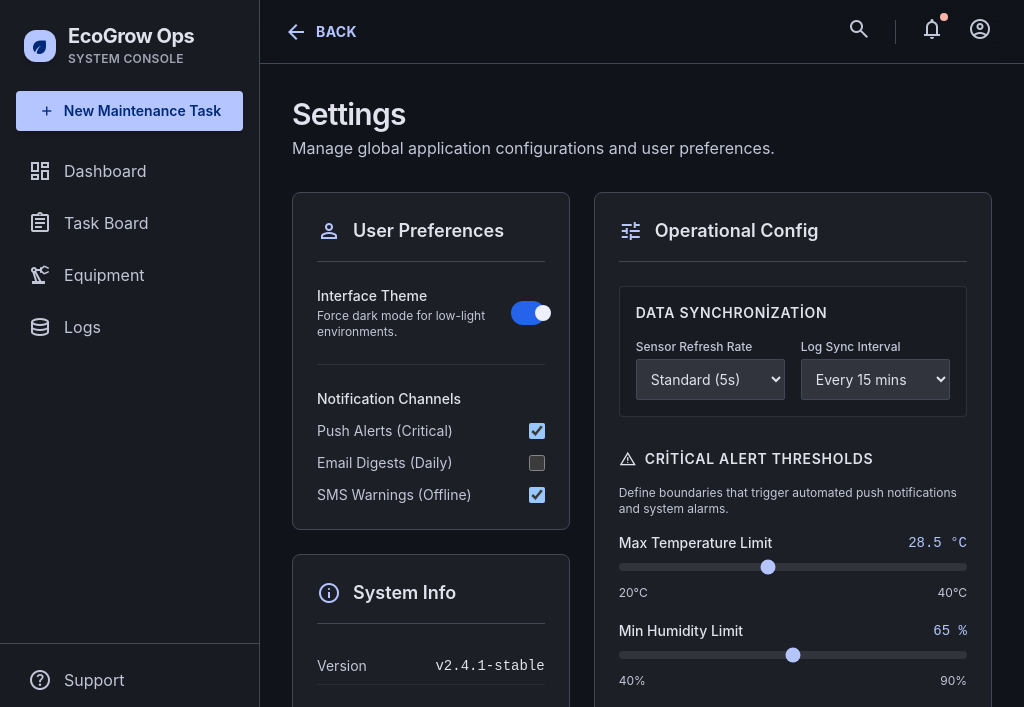
Test: Settings › updates humidity range slider
The width and height of the screenshot is (1024, 707).
Set the slider labelled "Min Humidity Limit" to "70": (826, 655) [619,651,967,659]
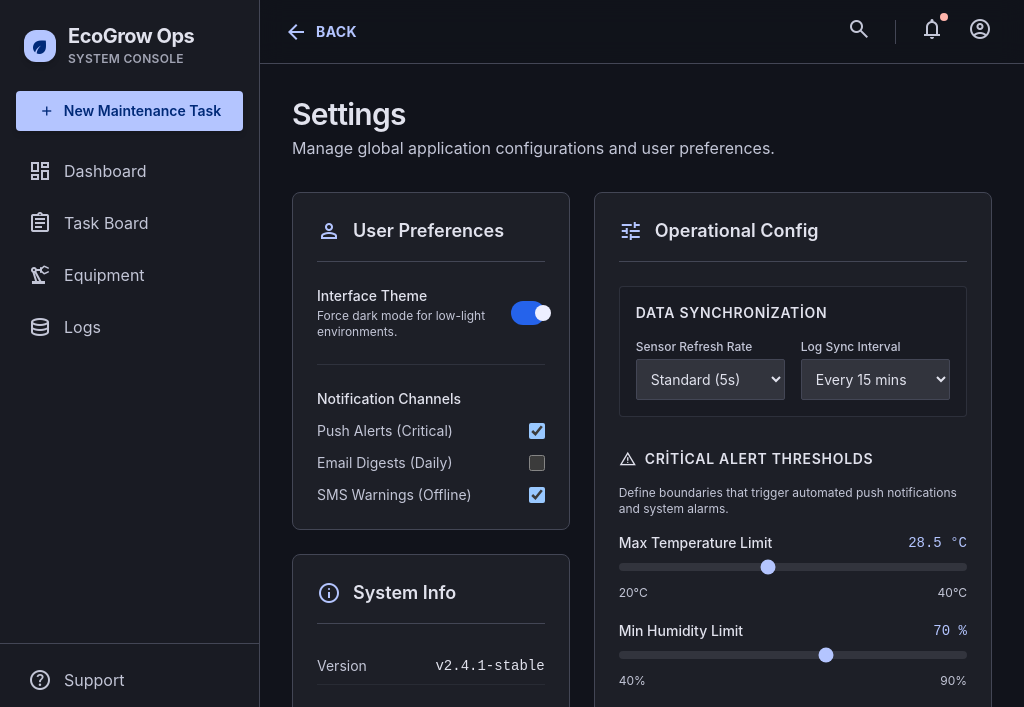
Result: the text "70 %" is shown at [933,621,967,641]
